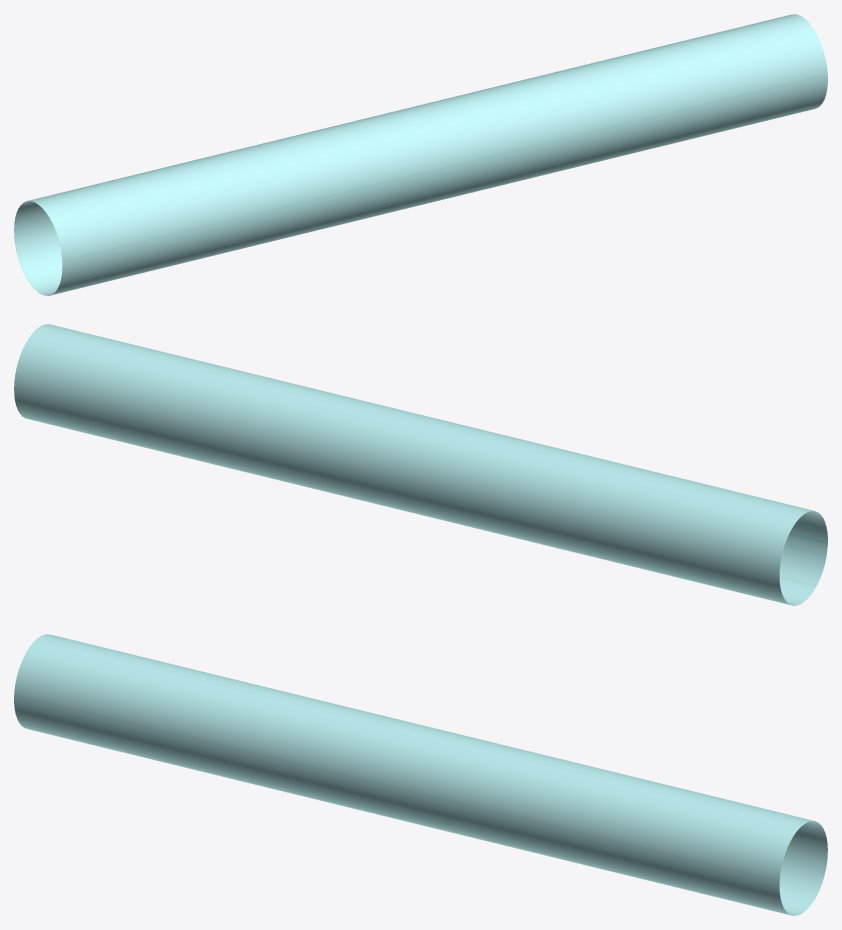
File: Level 159.fbx
3 views of the same model, one above another, from view 1: azimuth 30°, elevation 25°; view 2: azimuth 150°, elevation 25°; view 3: azimuth 330°, elevation 25° (orthographic).
Parts seen in each view (by area): view 1: window; view 2: window; view 3: window.
Part boxes in pixels (<box>): window: <box>14,14,827,295</box>; window: <box>14,324,827,605</box>; window: <box>14,634,827,915</box>.
Size of what is drawn, in the model's own units: 1190 by 131 by 131.
